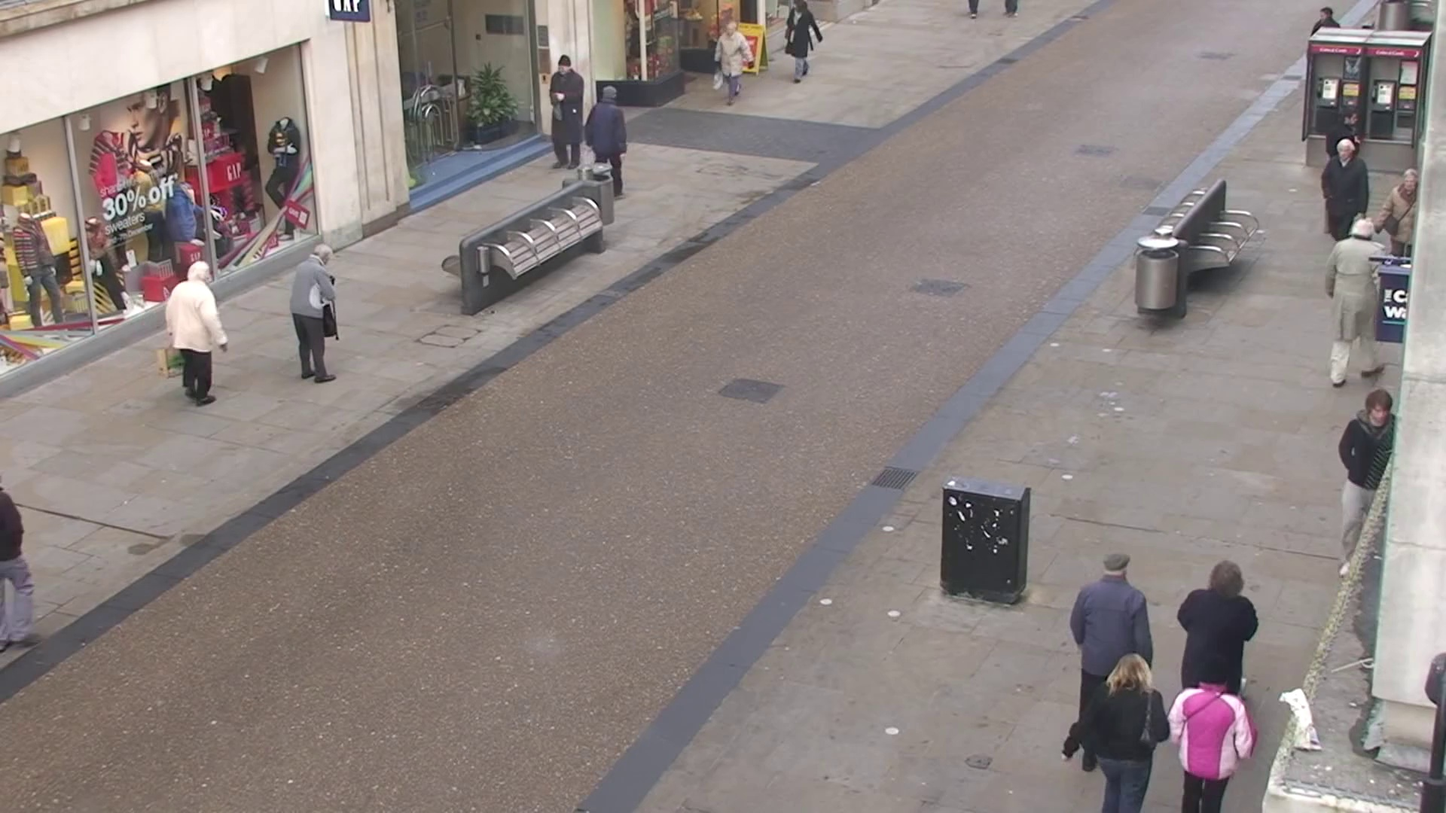person: (1068, 551, 1157, 746), (1076, 651, 1170, 813), (1170, 660, 1255, 813), (1176, 561, 1260, 701), (1326, 219, 1388, 387), (1337, 387, 1396, 559), (163, 253, 229, 406), (289, 243, 340, 384), (0, 482, 35, 650), (1321, 133, 1373, 241), (586, 88, 629, 197), (545, 53, 585, 170), (712, 8, 752, 103), (785, 2, 822, 84), (0, 483, 25, 568)
